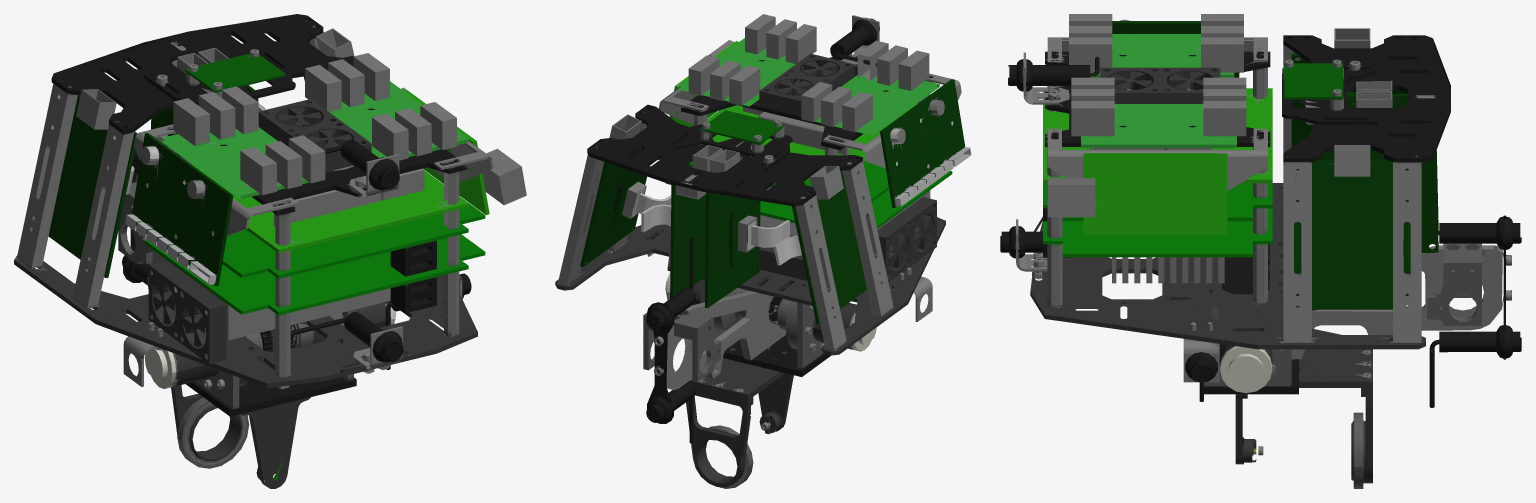
Rendered from head_2_joint.obj.
3 renders of one model, left to right at view 1: azimuth 30°, elevation 25°; view 2: azimuth 150°, elevation 25°; view 3: azimuth 270°, elevation 25°, orthographic. The views are drawn at different scales.
Size of the model in its own units: 0.1625 by 0.1956 by 0.2174.
Materials: 1 (1 with a texture image).
